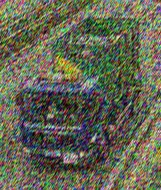truck: (18, 17, 144, 167)
